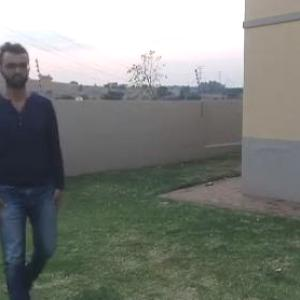follow: (1, 37, 76, 299)
